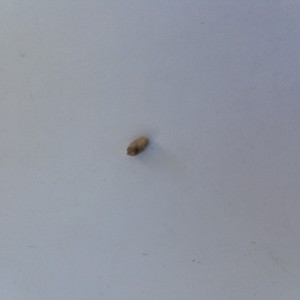trigo: (123, 135, 151, 160)
